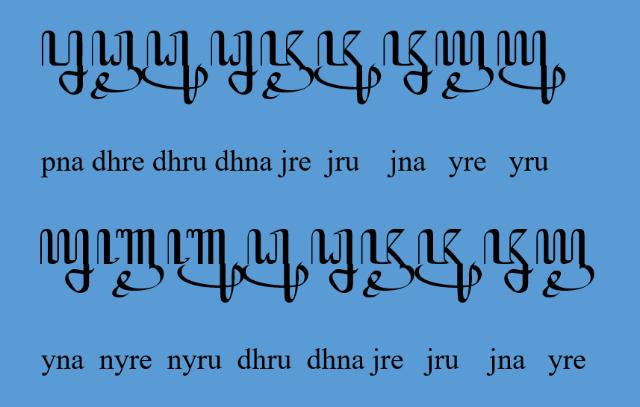dhn: (310, 229, 360, 295), (210, 29, 258, 95)
dhre: (91, 30, 143, 100)
dhru: (242, 228, 310, 303), (141, 29, 207, 105)
jn: (383, 30, 433, 96), (483, 228, 533, 294)
jre: (360, 227, 414, 298), (260, 30, 314, 100)
jru: (415, 228, 483, 304), (316, 29, 382, 105)
nyre: (97, 228, 165, 300)
nyru: (167, 229, 245, 305)
pn: (40, 30, 89, 94)
yn: (40, 229, 94, 295)
yre: (536, 228, 596, 300), (434, 30, 494, 100)
yru: (497, 30, 567, 106)
